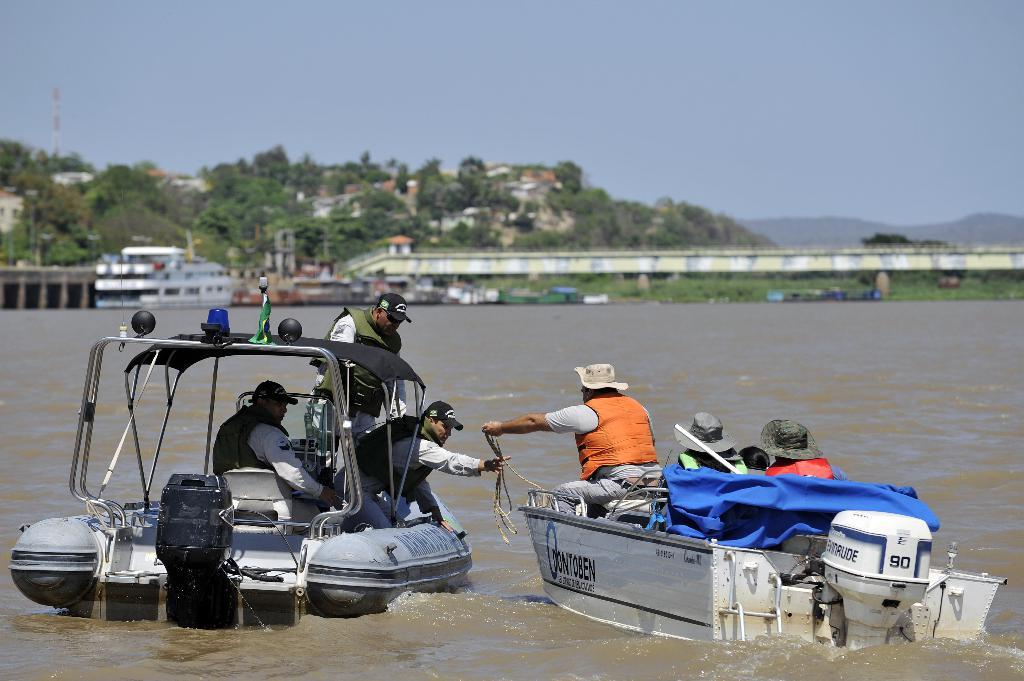PassengerShip: (82, 239, 246, 311)
